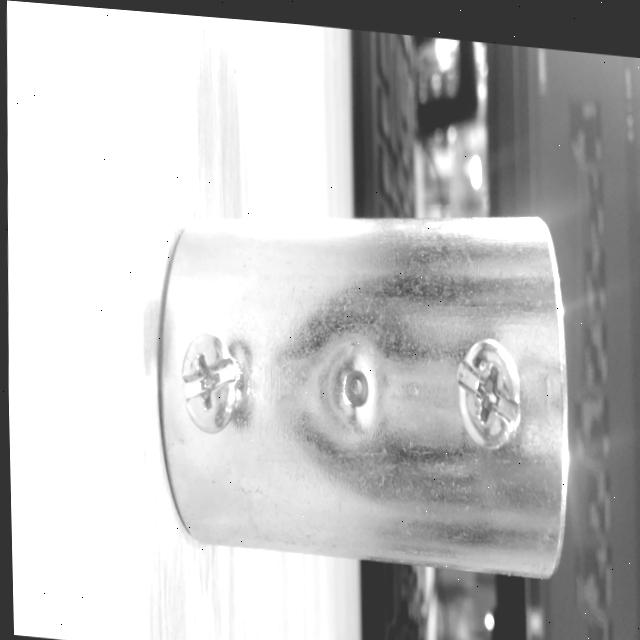Co_Nho: (157, 217, 567, 579)
